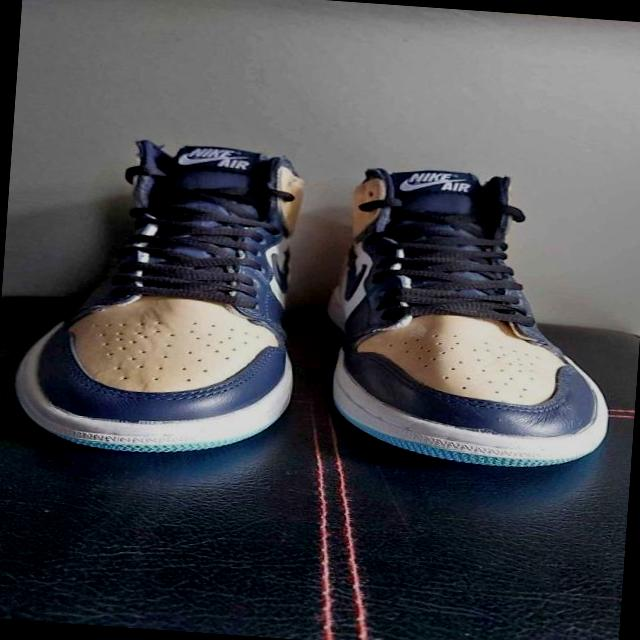nike_fake_jordan: (308, 158, 626, 473), (19, 132, 318, 464)
